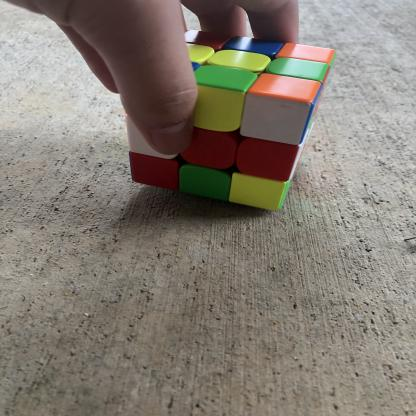UnsolvedCube: (96, 19, 340, 211)
